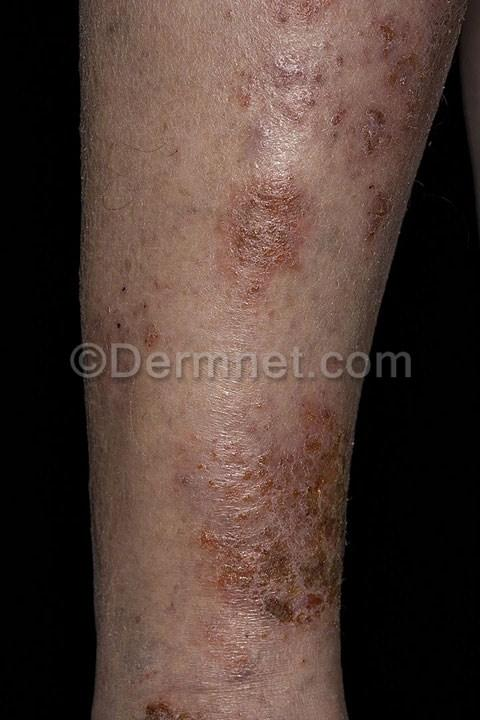Eczema: (212, 397, 333, 653), (291, 27, 406, 237), (209, 189, 296, 302)
